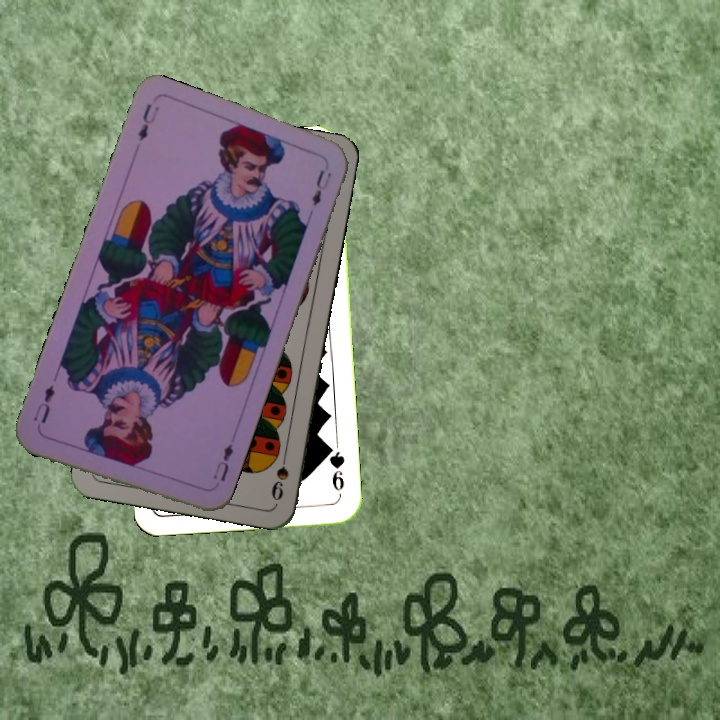EU: (208, 439, 236, 485), (134, 99, 162, 144)
G9: (323, 440, 347, 499)
S9: (267, 445, 291, 504)
